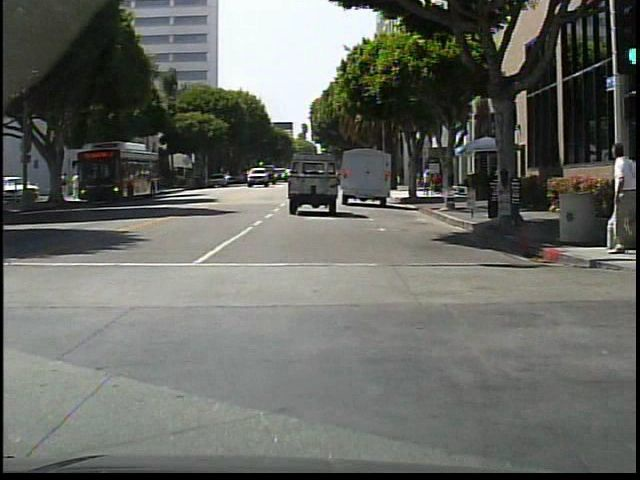person: (600, 143, 639, 255), (72, 171, 82, 201), (61, 170, 71, 200), (422, 171, 432, 198), (416, 168, 424, 199)
